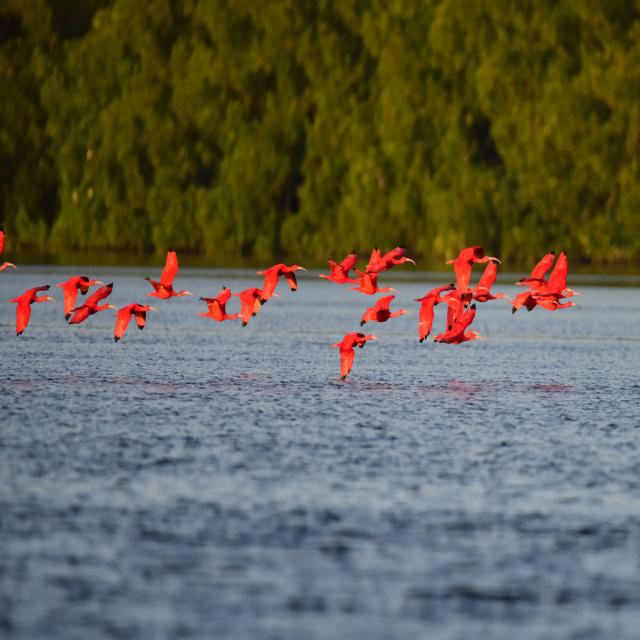bird: (506, 252, 583, 314), (234, 263, 304, 327), (416, 285, 482, 346), (324, 244, 415, 288), (408, 280, 451, 350), (53, 276, 113, 320), (446, 238, 494, 292), (144, 251, 192, 301), (330, 335, 378, 384), (6, 287, 53, 335), (109, 302, 155, 341), (360, 292, 406, 331), (468, 256, 503, 306), (322, 250, 366, 284), (198, 288, 238, 323)
